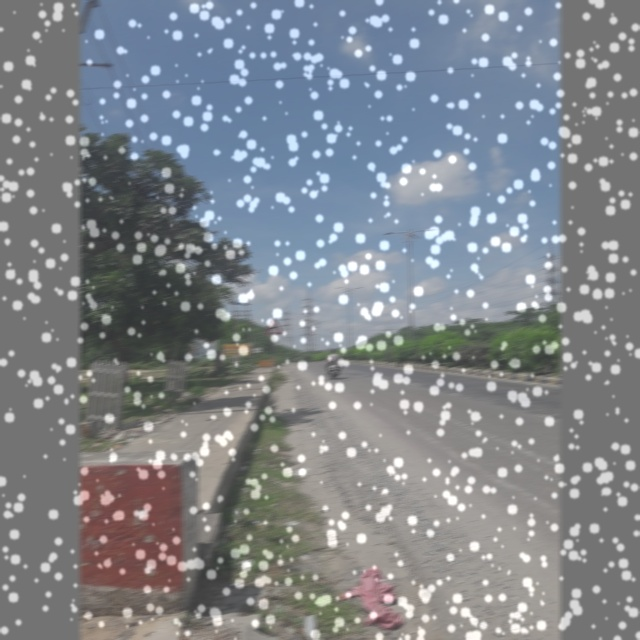Right_Hand_Curve: (264, 318, 281, 335)
